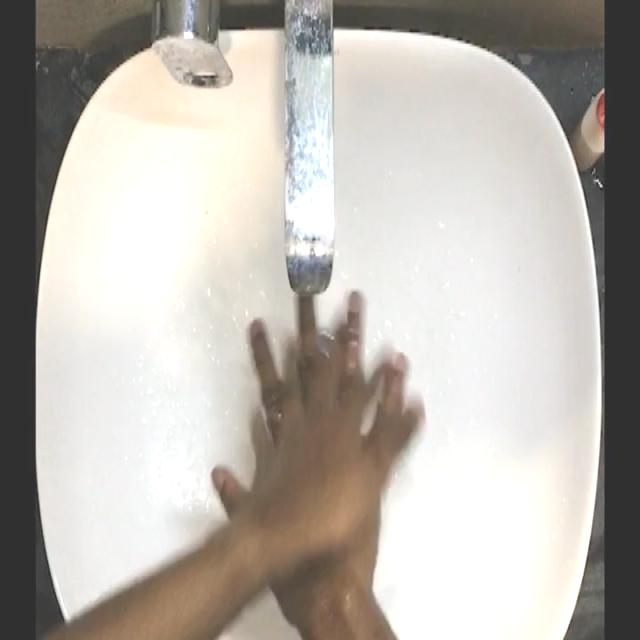step_2: (204, 267, 438, 608)
